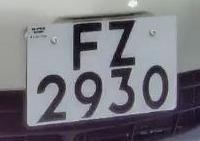0: (139, 60, 174, 116)
2: (32, 67, 70, 128)
3: (106, 65, 140, 118)
9: (71, 68, 107, 120)
F: (67, 19, 108, 74)
Z: (102, 15, 142, 72)
